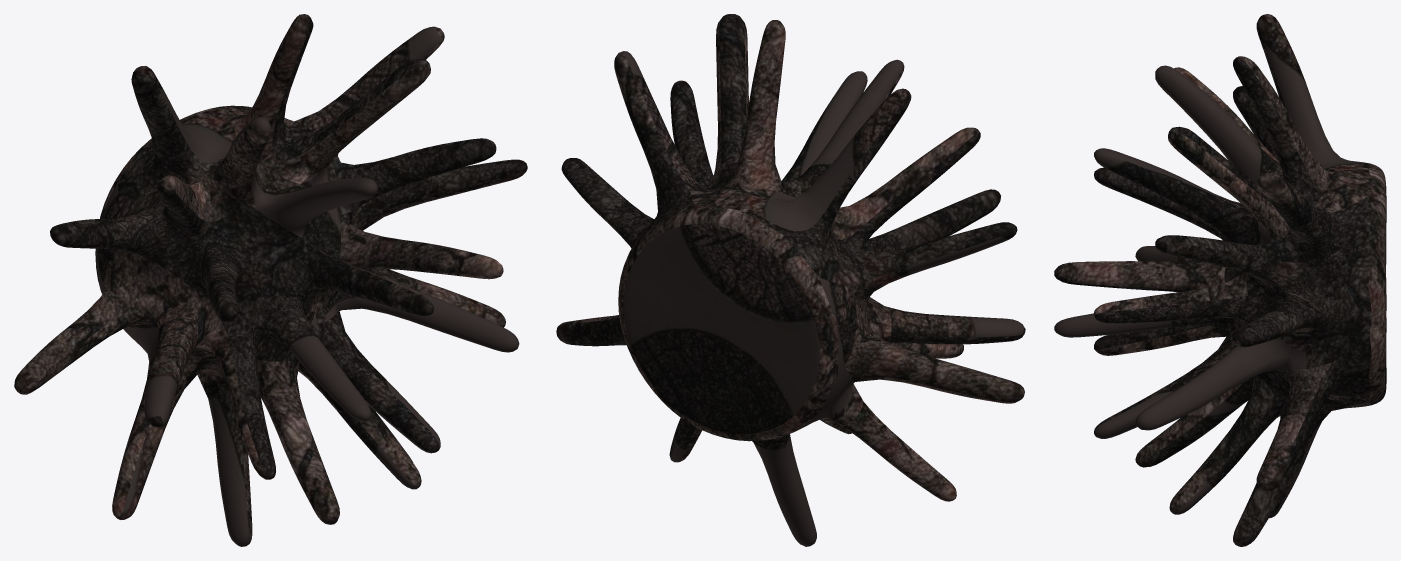
Rendered from urchin.draco.glb.
The picture shows the model from 3 angles, left to right: view 1: azimuth 30°, elevation 25°; view 2: azimuth 150°, elevation 25°; view 3: azimuth 270°, elevation 25°; orthographic projection. The views are drawn at different scales.
Visible parts, largest first — view 1: 18765_Pencil_sea_urchin_V1; view 2: 18765_Pencil_sea_urchin_V1; view 3: 18765_Pencil_sea_urchin_V1.
Boxes of the visible parts, left/top/right/bottom form: 18765_Pencil_sea_urchin_V1: left=14, top=14, right=527, bottom=546; 18765_Pencil_sea_urchin_V1: left=556, top=14, right=1025, bottom=546; 18765_Pencil_sea_urchin_V1: left=1054, top=14, right=1386, bottom=546.
Size of the model in its own units: 9.96 by 10.14 by 6.32.
1 material, 1 textured.
